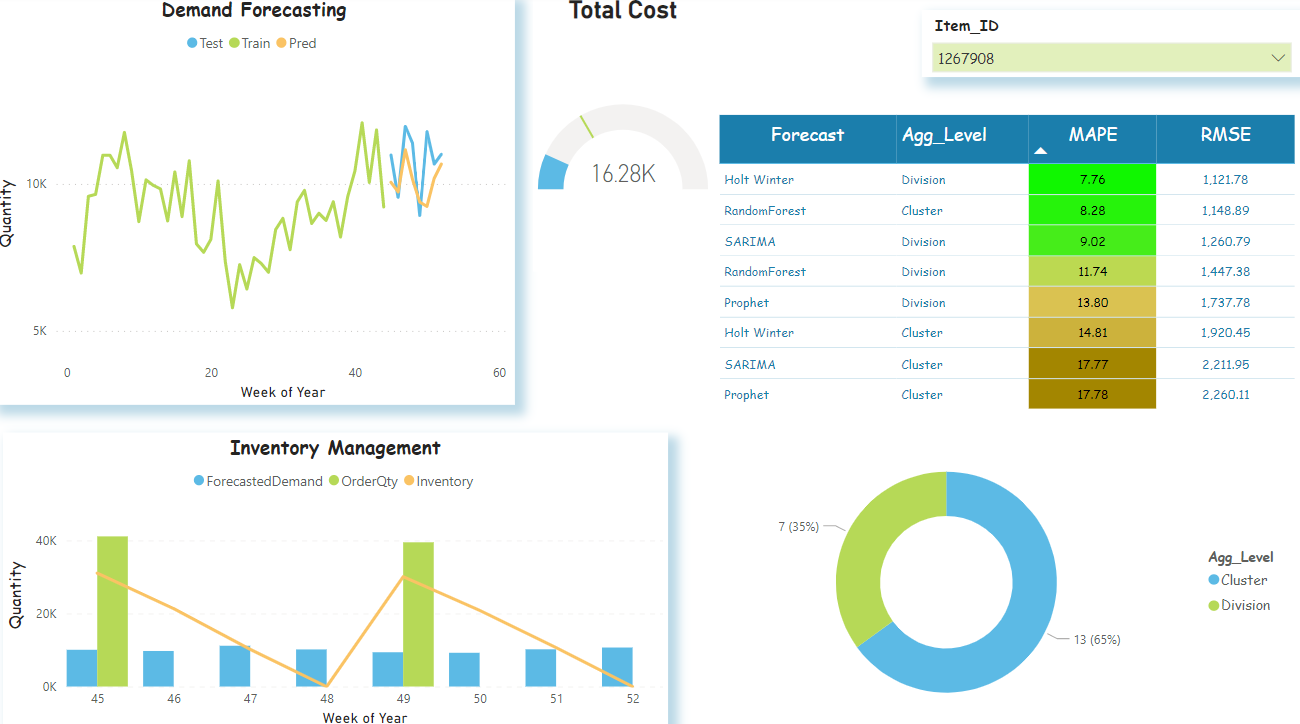

This screenshot's page, from the dashboard's own definition file:
{"tool":"powerbi","page":{"name":"Page 1","canvas":[1280,720],"ordinal":0},"visuals":[{"type":"lineChart","title":"Demand Forecasting","fields":{"Y":["Sum(Output.Test)","Sum(Output.Train)","Sum(Output.Pred)"],"Category":["Output.Week of Year"]},"box":[0,0,510.2,401],"z":0},{"type":"slicer","fields":{"Values":["ResultsAll.Item_ID"]},"box":[908.8,15.1,371.2,65.5],"z":1000},{"type":"donutChart","fields":{"Y":["CountNonNull(Results.Item_ID)"],"Category":["Results.Agg_Level"]},"box":[672.3,427.8,607.5,293.4],"z":2000},{"type":"lineClusteredColumnComboChart","title":"Inventory Management","fields":{"Y":["Sum(Inventory Cost.ForecastedDemand)","Sum(Inventory Cost.OrderQty)"],"Category":["Inventory Cost.Week of Year"],"Y2":["Sum(Inventory Cost.Inventory)"]},"box":[9.8,427.8,650.3,292.2],"z":3000},{"type":"tableEx","fields":{"Values":["ResultsAll.Forecast","ResultsAll.Agg_Level","Sum(ResultsAll.MAPE)","Sum(ResultsAll.RMSE)"]},"box":[704.1,112.5,574.5,315.4],"z":4000},{"type":"gauge","title":"Total Cost","fields":{"Y":["Avg(Inventory (2).Cost)"]},"box":[528.1,0,176,270.2],"z":5000}]}

Visuals, with their boxes in screenshot pixels (x1, y1, x2, y2), scaled from the page's 1280x720 canvas onto the 1300x724 screenshot:
"Demand Forecasting" lineChart: locate(0, 0, 518, 403)
slicer - ResultsAll.Item_ID: locate(923, 15, 1299, 81)
donutChart - CountNonNull(Results.Item_ID) x Results.Agg_Level: locate(683, 430, 1299, 723)
"Inventory Management" lineClusteredColumnComboChart: locate(10, 430, 670, 723)
tableEx - ResultsAll.Forecast x ResultsAll.Agg_Level: locate(715, 113, 1299, 430)
"Total Cost" gauge: locate(536, 0, 715, 272)
